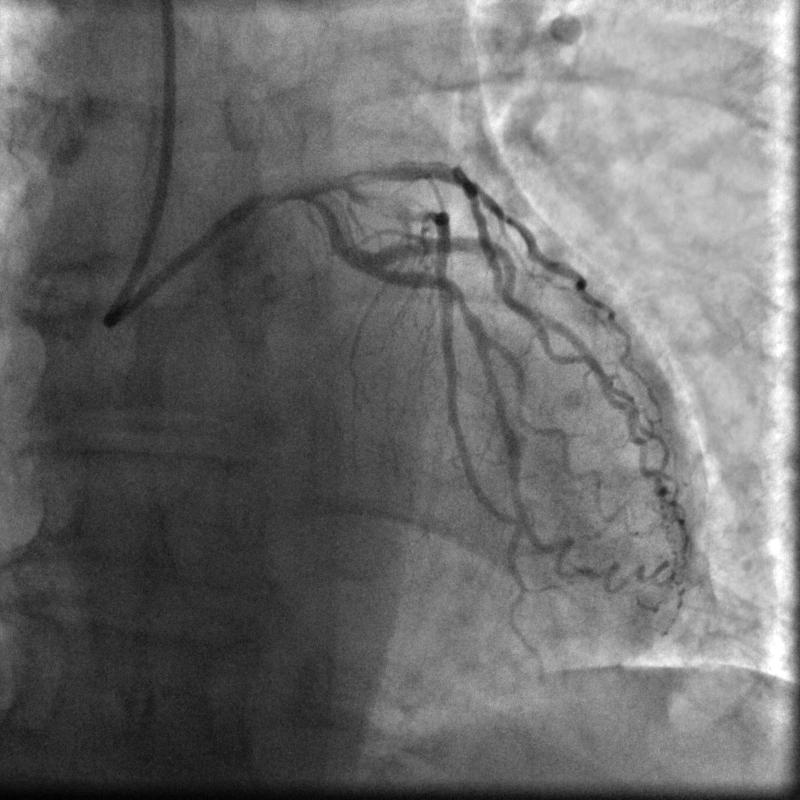Stenosis: (366, 185, 424, 222)
